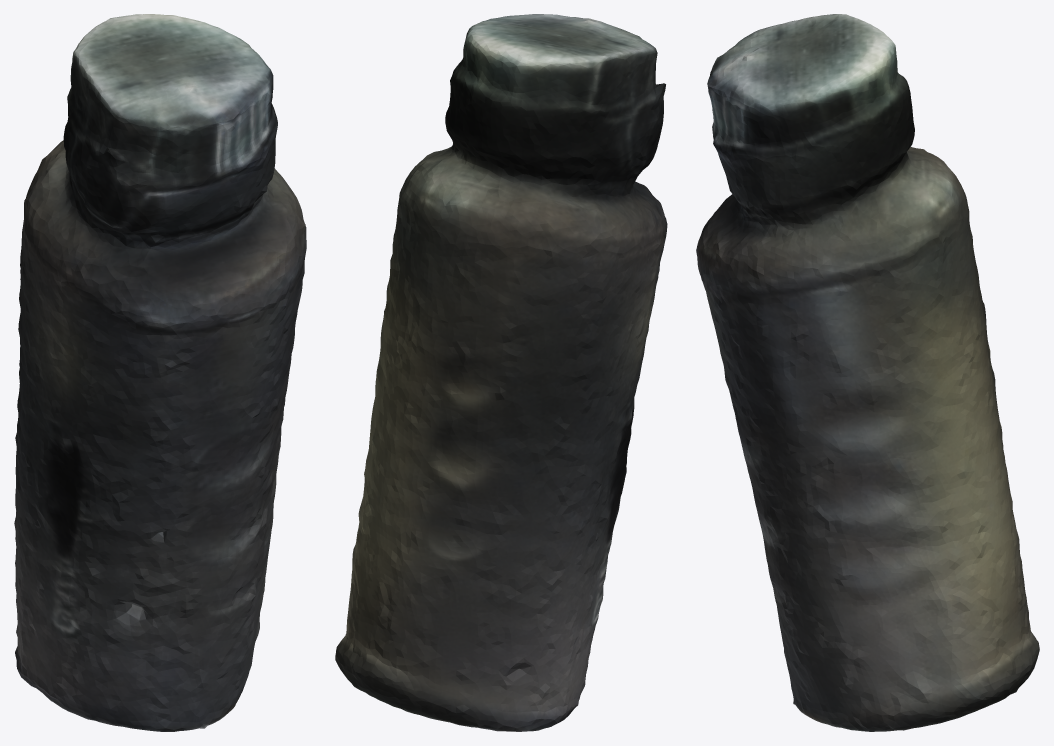
File: big_bottle.glb
The picture shows the model from 3 angles, left to right: view 1: azimuth 30°, elevation 25°; view 2: azimuth 150°, elevation 25°; view 3: azimuth 270°, elevation 25°; orthographic projection. The views are drawn at different scales.
Size of the model in its own units: 0.3834 by 1.02 by 0.4897.
1 material, 1 textured.
